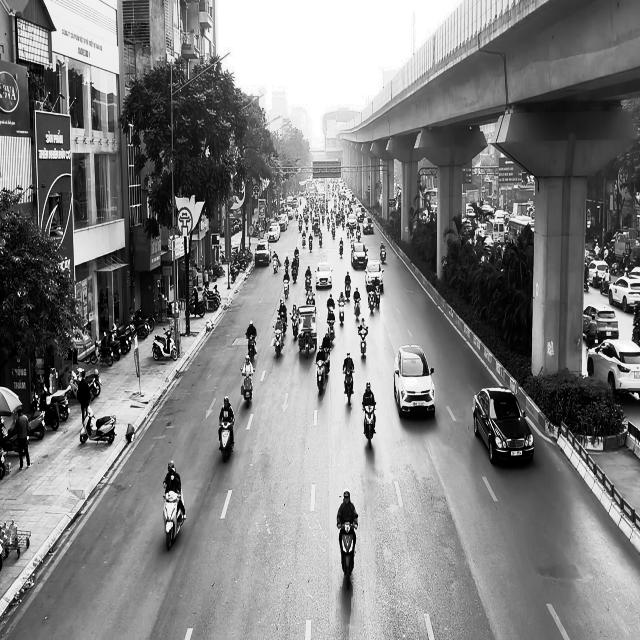car: (472, 386, 534, 464), (586, 339, 640, 398), (394, 343, 436, 418), (364, 260, 384, 292), (315, 261, 333, 288)
motorbike: (162, 486, 186, 550), (337, 519, 358, 589), (79, 406, 117, 444), (152, 328, 178, 361), (218, 418, 234, 462), (362, 402, 376, 448), (240, 367, 254, 407), (314, 358, 326, 394), (343, 369, 354, 405), (358, 326, 368, 358), (274, 327, 284, 357), (246, 334, 256, 362), (326, 320, 336, 346), (290, 312, 298, 339), (354, 297, 361, 320), (283, 279, 289, 299)
